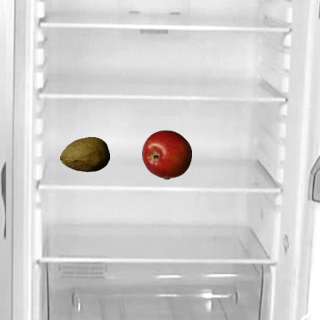Apple Braeburn: (141, 129, 191, 179)
Papaya: (59, 129, 109, 179)
